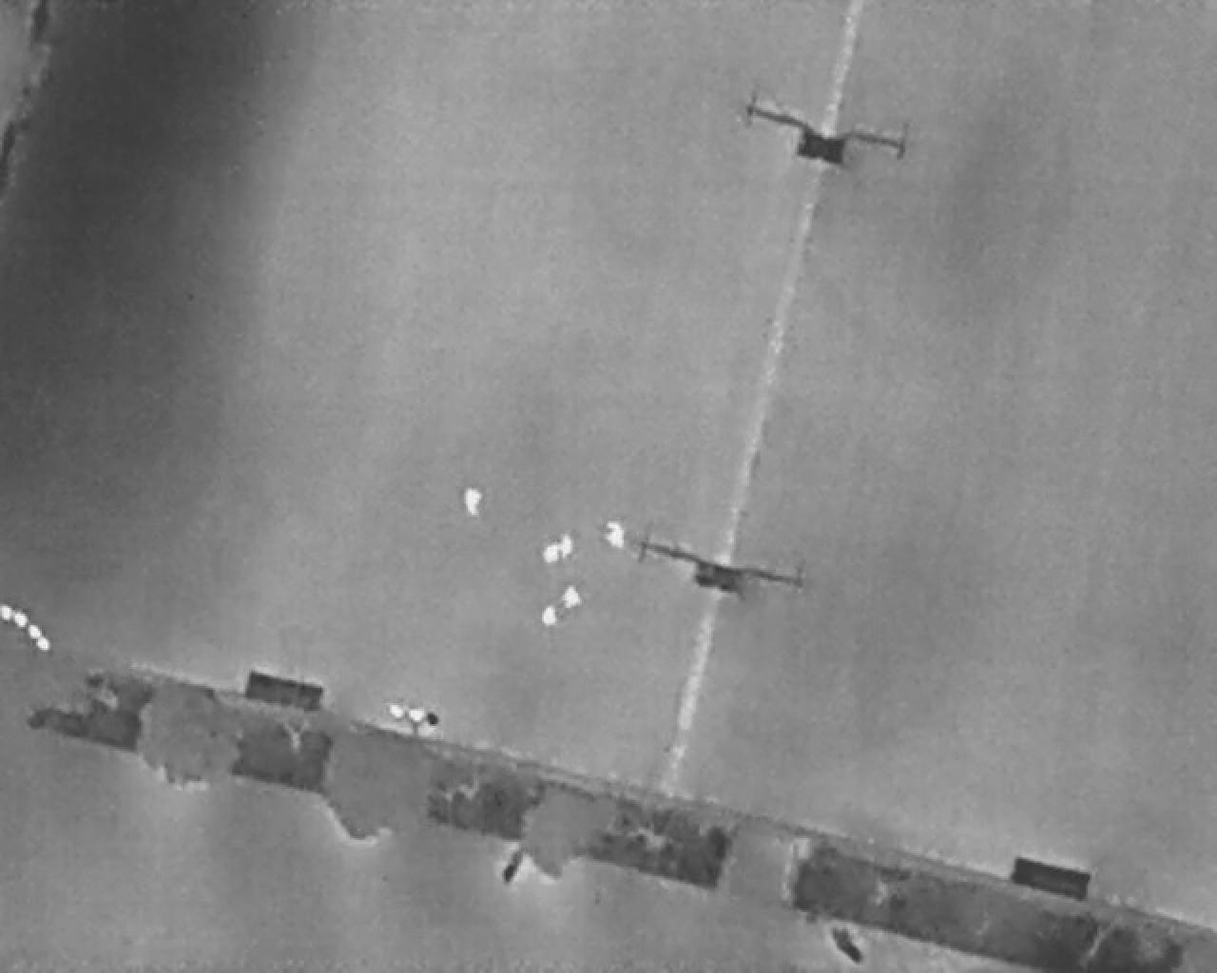person: (465, 486, 484, 518), (608, 522, 625, 550), (562, 584, 581, 609), (560, 533, 575, 560), (543, 541, 560, 563), (543, 603, 558, 626)
